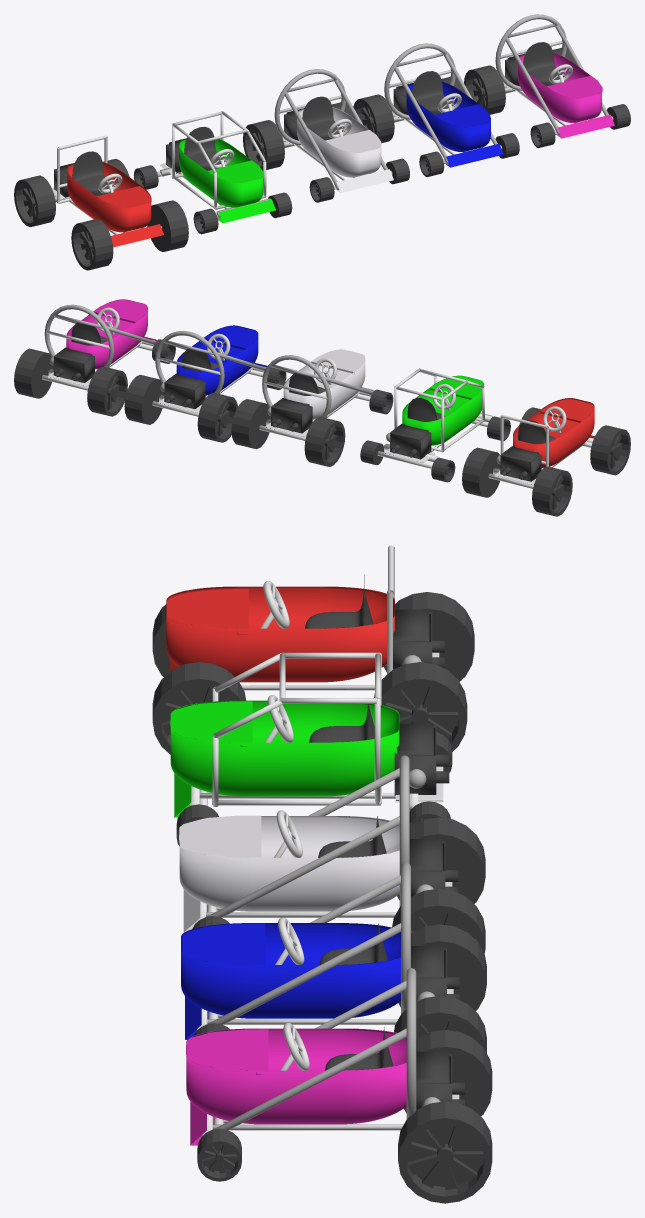
File: updated kart model.fbx
3 views of the same model, one above another, from view 1: azimuth 30°, elevation 25°; view 2: azimuth 150°, elevation 25°; view 3: azimuth 270°, elevation 25° (orthographic). The views are drawn at different scales.
Visible parts, largest first — view 1: Bathtub Body.004, Bathtub Body.002, Bathtub Body.001, Bathtub Body.003, Bathtub Body, Support_Left.001, Support_Left.003, Low Bar.015, WHEEL RR.005, WHEEL RR.004, WHEEL RL.005, WHEEL RR (+29 smaller); view 2: Bathtub Body.004, Bathtub Body.002, Bathtub Body.001, Bathtub Body.003, Bathtub Body, WHEEL RR, WHEEL RR.004, WHEEL RR.005, WHEEL RR.003, Support_Left.001, WHEEL RR.001, Support_Left.003 (+29 smaller); view 3: Bathtub Body.002, Bathtub Body.003, Bathtub Body.004, Bathtub Body, Bathtub Body.001, WHEEL RL.003, Low Bar.015, Support_Left.003, WHEEL RL.004, Support_Left.001, Support_Left.005, WHEEL RL.005 (+21 smaller).
Boxes of the visible parts, bbox=[...] form: Bathtub Body.004: bbox=[67, 162, 151, 232]; Bathtub Body.002: bbox=[179, 139, 263, 207]; Bathtub Body.001: bbox=[406, 81, 490, 151]; Bathtub Body.003: bbox=[518, 52, 601, 122]; Bathtub Body: bbox=[297, 107, 381, 177]; Support_Left.001: bbox=[384, 43, 497, 164]; Support_Left.003: bbox=[495, 14, 608, 135]; Low Bar.015: bbox=[160, 111, 270, 217]; WHEEL RR.005: bbox=[71, 219, 113, 270]; WHEEL RR.004: bbox=[14, 175, 55, 226]; WHEEL RL.005: bbox=[147, 200, 188, 251]; WHEEL RR: bbox=[243, 120, 284, 170]; Bathtub Body.004: bbox=[513, 398, 594, 467]; Bathtub Body.002: bbox=[402, 375, 483, 445]; Bathtub Body.001: bbox=[176, 325, 258, 395]; Bathtub Body.003: bbox=[66, 299, 147, 369]; Bathtub Body: bbox=[283, 362, 365, 419]; WHEEL RR: bbox=[304, 417, 345, 466]; WHEEL RR.004: bbox=[532, 466, 572, 516]; WHEEL RR.005: bbox=[590, 425, 630, 475]; WHEEL RR.003: bbox=[87, 366, 127, 416]; Support_Left.001: bbox=[155, 331, 266, 401]; WHEEL RR.001: bbox=[197, 392, 237, 442]; Support_Left.003: bbox=[44, 304, 155, 374]; Bathtub Body.002: bbox=[170, 700, 399, 796]; Bathtub Body.003: bbox=[186, 1028, 406, 1124]; Bathtub Body.004: bbox=[166, 586, 394, 682]; Bathtub Body: bbox=[179, 816, 399, 911]; Bathtub Body.001: bbox=[181, 923, 400, 1018]; WHEEL RL.003: bbox=[398, 1101, 492, 1203]; Low Bar.015: bbox=[190, 652, 418, 811]; Support_Left.003: bbox=[202, 968, 416, 1135]; WHEEL RL.004: bbox=[374, 662, 467, 751]; Support_Left.001: bbox=[196, 862, 410, 1030]; Support_Left.005: bbox=[195, 755, 409, 923]; WHEEL RL.005: bbox=[152, 662, 245, 754].
Size of the model in its own units: 1237 by 208 by 342.
